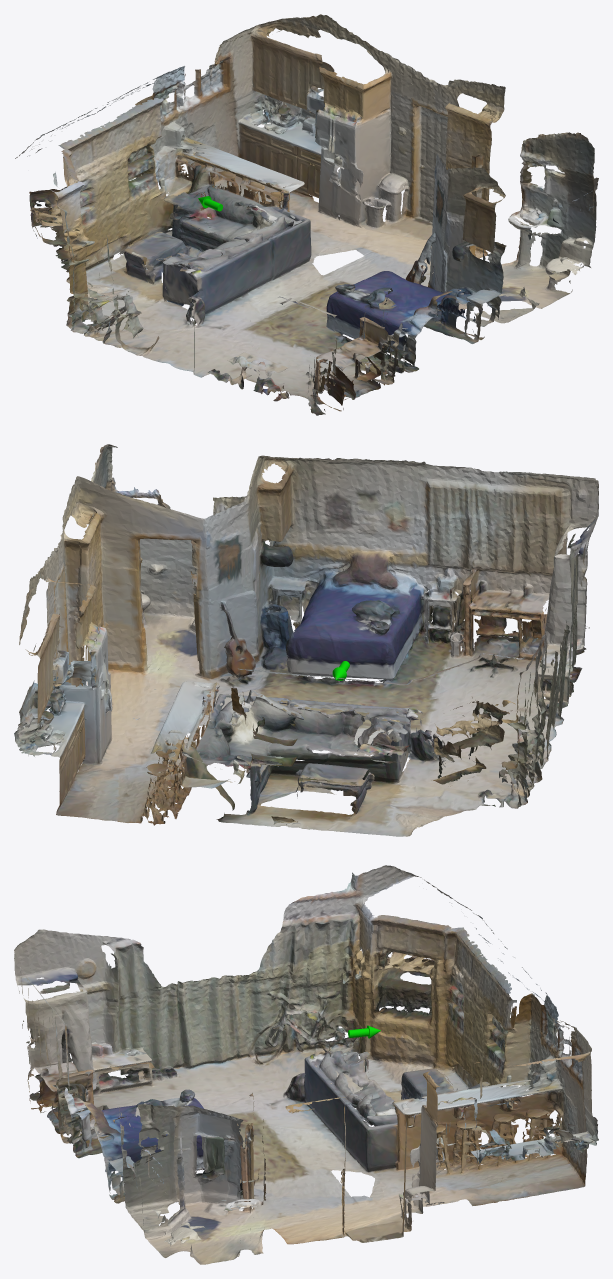
Rendered from situation_0.glb.
3 renders of one model, top to bottom at view 1: azimuth 30°, elevation 25°; view 2: azimuth 150°, elevation 25°; view 3: azimuth 270°, elevation 25°, orthographic. The views are drawn at different scales.
Parts seen in each view (by area): view 1: world; view 2: world; view 3: world.
Part boxes in pixels (x1,y1,x2,y2): world: [15, 14, 598, 415]; world: [14, 444, 598, 836]; world: [14, 865, 598, 1264].
Size of the model in its own units: 8.42 by 3.03 by 8.74.
